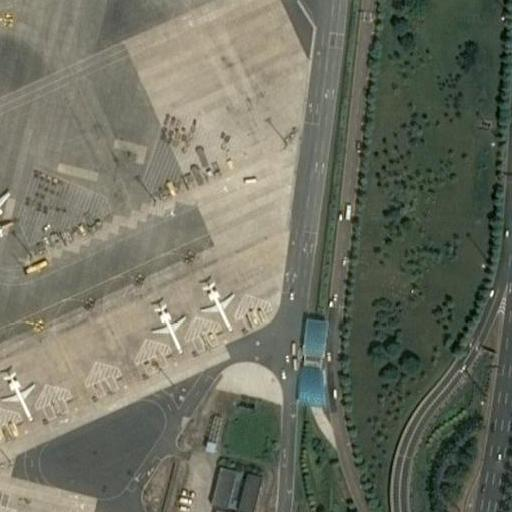Aircraft: (149, 299, 186, 354), (197, 276, 236, 328), (0, 369, 35, 421), (0, 172, 13, 240)
